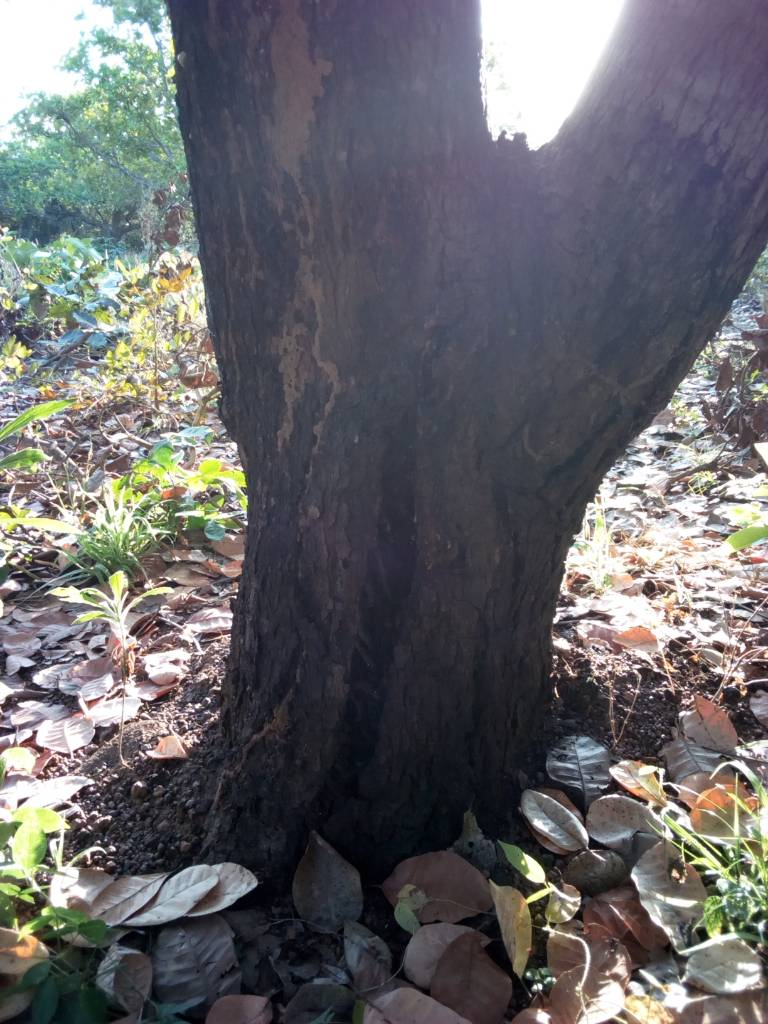Termites: (230, 2, 349, 457)
